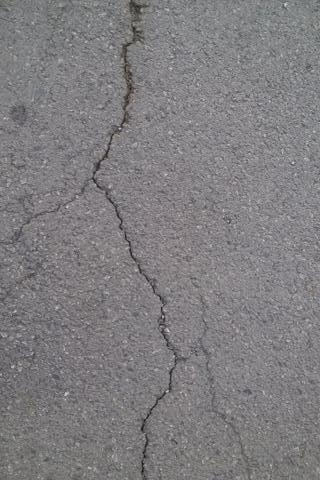A: (88, 2, 180, 480), (192, 292, 253, 480), (1, 181, 85, 250)
